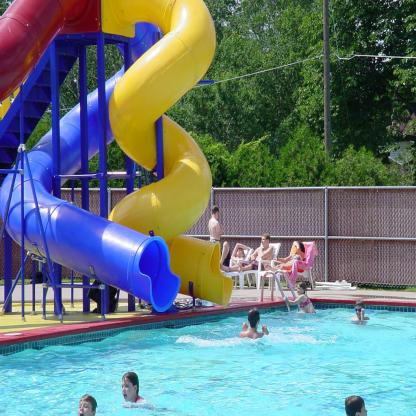face: (123, 379, 135, 402), (79, 401, 93, 416), (356, 306, 364, 320), (360, 404, 369, 416), (262, 237, 268, 248), (298, 285, 304, 295), (237, 249, 243, 258), (296, 244, 301, 252), (217, 211, 219, 219)
